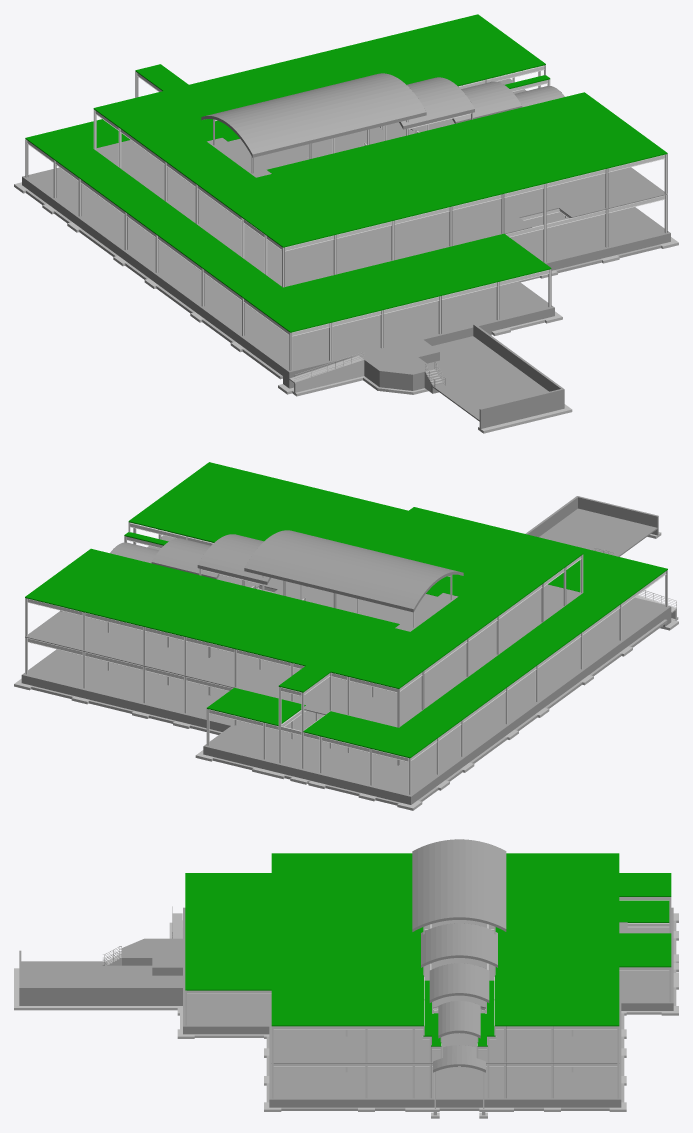
3 views of the same model, one above another, from view 1: azimuth 30°, elevation 25°; view 2: azimuth 150°, elevation 25°; view 3: azimuth 270°, elevation 25° (orthographic). The views are drawn at different scales.
Parts seen in each view (by area): view 1: 22_kIllv127wWuzeSbBoPm, 2oJ$jhEMn3nhAqn0NbtYKu, 2XnCNfbvb5mfgxvK1MPFfM, 3yX498NoH6cAogvPd4Mk$Y, 0rgLSgKBf54Qc3od1vyY2Z, 1lGrrtZObD3BCuxBCd$E_H, 30URw5qYD7VfcU$zAl5afl, 0rgLSgKBf54Qc3od1vyYy9, 2lH_RQeBDBG8rH6PWO_5fC, 31f4fEYc5F6fw4dve_O20g, 0EBxs8wY934BfjQnQnJP9Z, 0rgLSgKBf54Qc3od1vyYzb (+7 smaller); view 2: 22_kIllv127wWuzeSbBoPm, 2XnCNfbvb5mfgxvK1MPFfM, 3yX498NoH6cAogvPd4Mk$Y, 2oJ$jhEMn3nhAqn0NbtYKu, 0rgLSgKBf54Qc3od1vyY2Z, 1lGrrtZObD3BCuxBCd$E_H, 30URw5qYD7VfcU$zAl5afl, 3saVcraO9CJRqkF0xoe8dT, 3saVcraO9CJRqkF0xoe8zy, 0rgLSgKBf54Qc3od1vyYy9, 0VsgkmPnbAuO2d6$Acv6Id, 0EBxs8wY934BfjQnQnJP9Z (+6 smaller); view 3: 22_kIllv127wWuzeSbBoPm, 2XnCNfbvb5mfgxvK1MPFfM, 2oJ$jhEMn3nhAqn0NbtYKu, 3yX498NoH6cAogvPd4Mk$Y, 0rgLSgKBf54Qc3od1vyY2Z, 1lGrrtZObD3BCuxBCd$E_H, 3saVcraO9CJRqkF0xoe8_j, 31f4fEYc5F6fw4dve_O27F, 0rgLSgKBf54Qc3od1vyYy9, 0rgLSgKBf54Qc3od1vyYzb, 0VsgkmPnbAuO2d6$Acv6Id, 2lH_RQeBDBG8rH6PWO_5fC (+7 smaller).
Part boxes in pixels (box(x1,y1,x2,y2)): 22_kIllv127wWuzeSbBoPm: box(93, 14, 667, 247); 2oJ$jhEMn3nhAqn0NbtYKu: box(25, 119, 551, 332); 2XnCNfbvb5mfgxvK1MPFfM: box(26, 122, 667, 370); 3yX498NoH6cAogvPd4Mk$Y: box(94, 75, 667, 287); 0rgLSgKBf54Qc3od1vyY2Z: box(201, 73, 426, 157); 1lGrrtZObD3BCuxBCd$E_H: box(427, 336, 548, 421); 30URw5qYD7VfcU$zAl5afl: box(22, 176, 284, 375); 0rgLSgKBf54Qc3od1vyYy9: box(399, 77, 474, 129); 2lH_RQeBDBG8rH6PWO_5fC: box(359, 339, 439, 375); 31f4fEYc5F6fw4dve_O20g: box(479, 389, 562, 428); 0EBxs8wY934BfjQnQnJP9Z: box(207, 137, 309, 177); 0rgLSgKBf54Qc3od1vyYzb: box(452, 81, 522, 123); 22_kIllv127wWuzeSbBoPm: box(25, 462, 583, 692); 2XnCNfbvb5mfgxvK1MPFfM: box(25, 589, 666, 795); 3yX498NoH6cAogvPd4Mk$Y: box(25, 532, 581, 727); 2oJ$jhEMn3nhAqn0NbtYKu: box(303, 507, 667, 758); 0rgLSgKBf54Qc3od1vyY2Z: box(244, 530, 463, 612); 1lGrrtZObD3BCuxBCd$E_H: box(539, 508, 657, 556); 30URw5qYD7VfcU$zAl5afl: box(409, 610, 664, 804); 3saVcraO9CJRqkF0xoe8dT: box(203, 745, 409, 804); 3saVcraO9CJRqkF0xoe8zy: box(21, 674, 231, 731); 0rgLSgKBf54Qc3od1vyYy9: box(197, 534, 270, 584); 0VsgkmPnbAuO2d6$Acv6Id: box(206, 687, 305, 726); 0EBxs8wY934BfjQnQnJP9Z: box(358, 593, 458, 631); 22_kIllv127wWuzeSbBoPm: box(271, 853, 671, 1026); 2XnCNfbvb5mfgxvK1MPFfM: box(185, 909, 669, 1098); 2oJ$jhEMn3nhAqn0NbtYKu: box(185, 873, 671, 990); 3yX498NoH6cAogvPd4Mk$Y: box(271, 920, 627, 1063); 0rgLSgKBf54Qc3od1vyY2Z: box(412, 839, 506, 931); 1lGrrtZObD3BCuxBCd$E_H: box(21, 961, 182, 987); 3saVcraO9CJRqkF0xoe8_j: box(269, 1098, 619, 1107); 31f4fEYc5F6fw4dve_O27F: box(19, 987, 182, 1005); 0rgLSgKBf54Qc3od1vyYy9: box(421, 923, 497, 967); 0rgLSgKBf54Qc3od1vyYzb: box(429, 963, 489, 1002); 0VsgkmPnbAuO2d6$Acv6Id: box(619, 933, 671, 967); 2lH_RQeBDBG8rH6PWO_5fC: box(122, 938, 182, 968).
Size of the model in its own units: 55.69 by 16.02 by 77.1.
